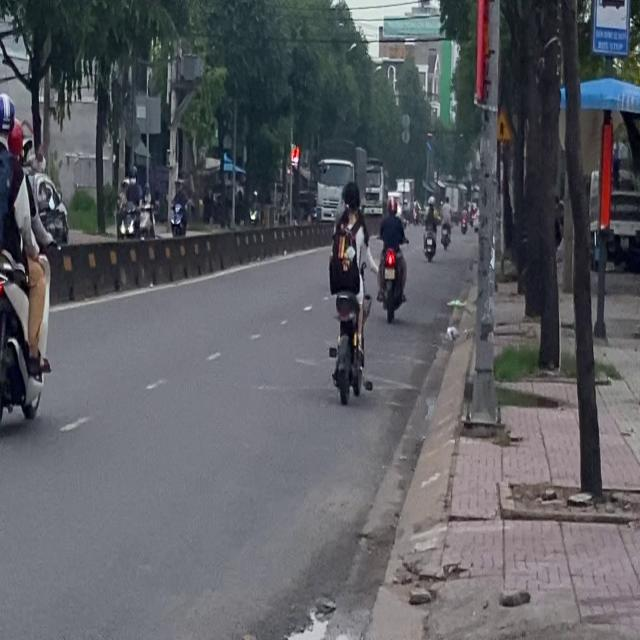helmet: (6, 121, 27, 160), (0, 90, 15, 140)
licenseplate: (0, 85, 53, 436), (324, 176, 375, 404)
motorcyclist: (341, 180, 361, 218)
